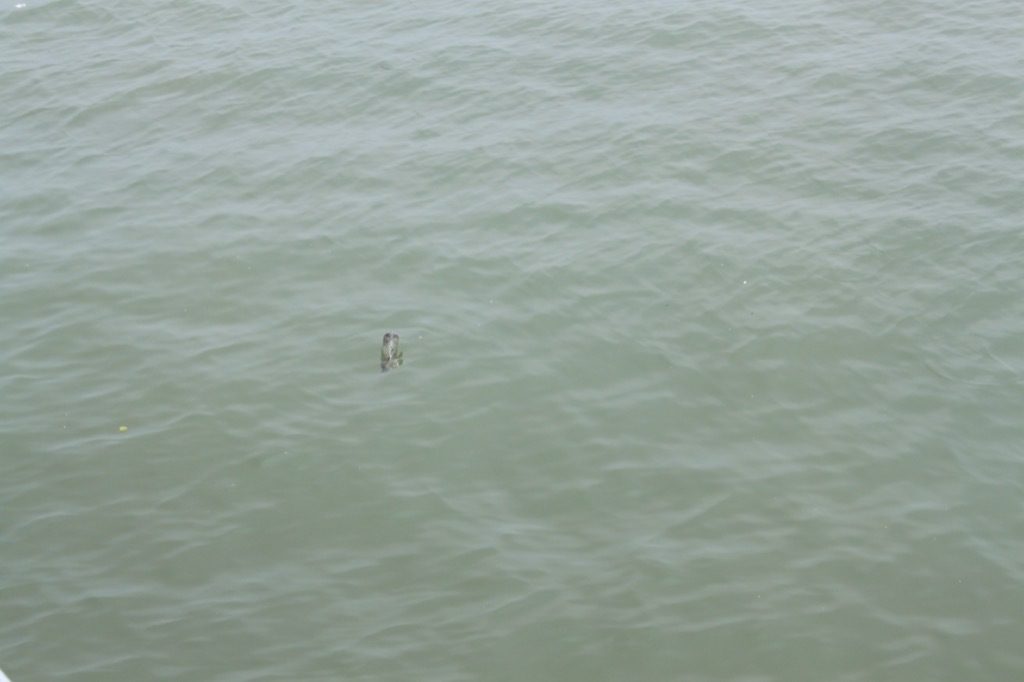plastic: (363, 324, 412, 380), (115, 421, 130, 437)
